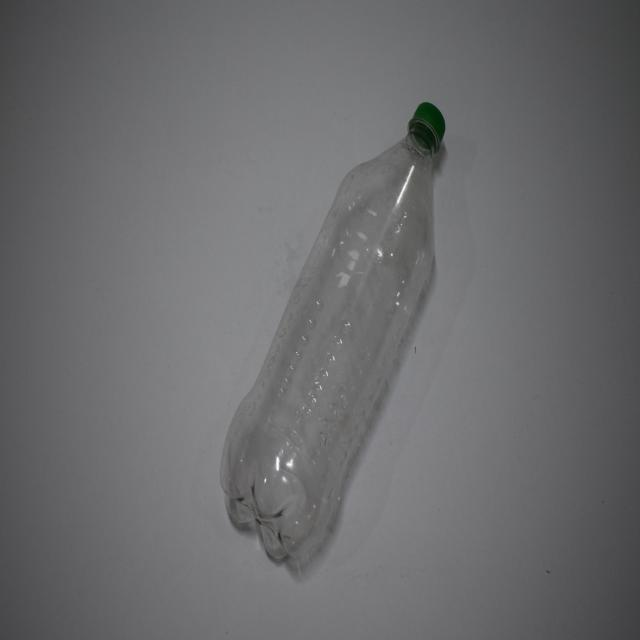empty: (220, 103, 445, 563)
